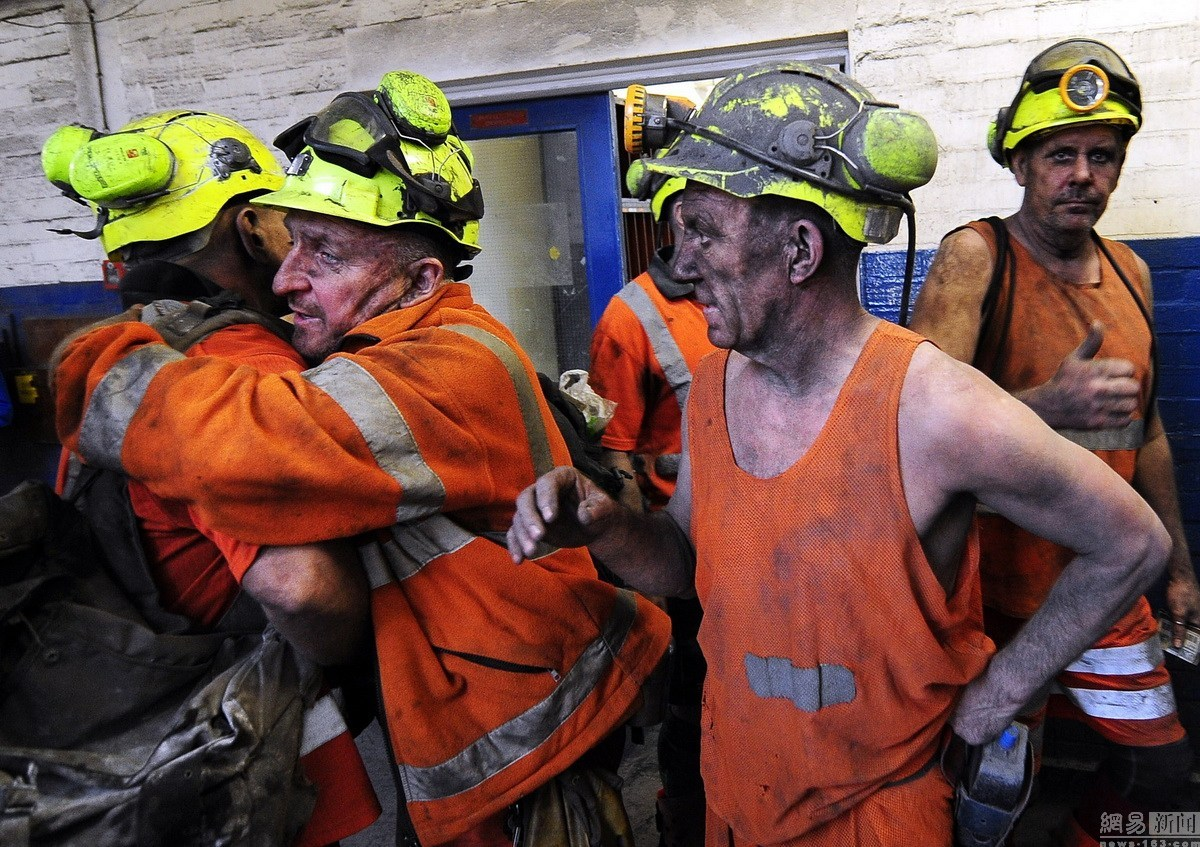helmet: (259, 102, 492, 340), (994, 48, 1145, 257)
